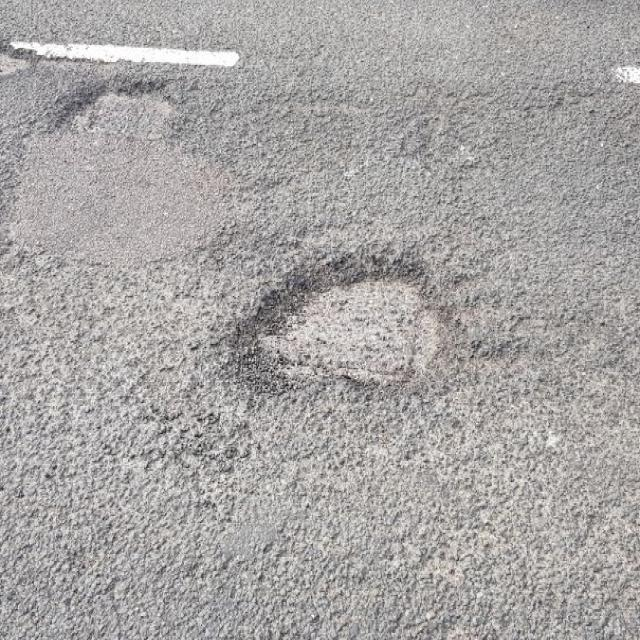pothole: (221, 237, 468, 407), (59, 69, 186, 133), (1, 37, 35, 72)
